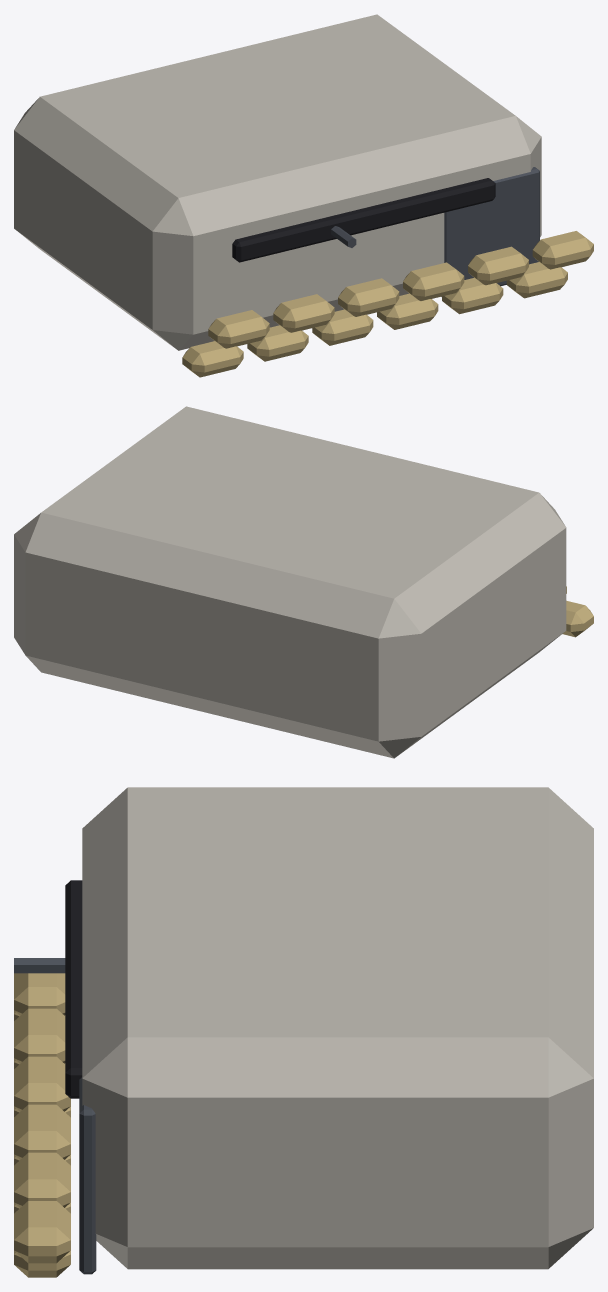
File: Bunker.fbx
3 renders of one model, top to bottom at view 1: azimuth 30°, elevation 25°; view 2: azimuth 150°, elevation 25°; view 3: azimuth 270°, elevation 25°, orthographic. The views are drawn at different scales.
Parts seen in each view (by area): view 1: Bunker; view 2: Bunker; view 3: Bunker.
Part boxes in pixels (x1,y1,x2,y2): Bunker: (14,14,593,377); Bunker: (14,406,593,758); Bunker: (14,787,593,1277).
Size of the model in its own units: 12.6 by 4.5 by 10.2.
1 material, 1 textured.
